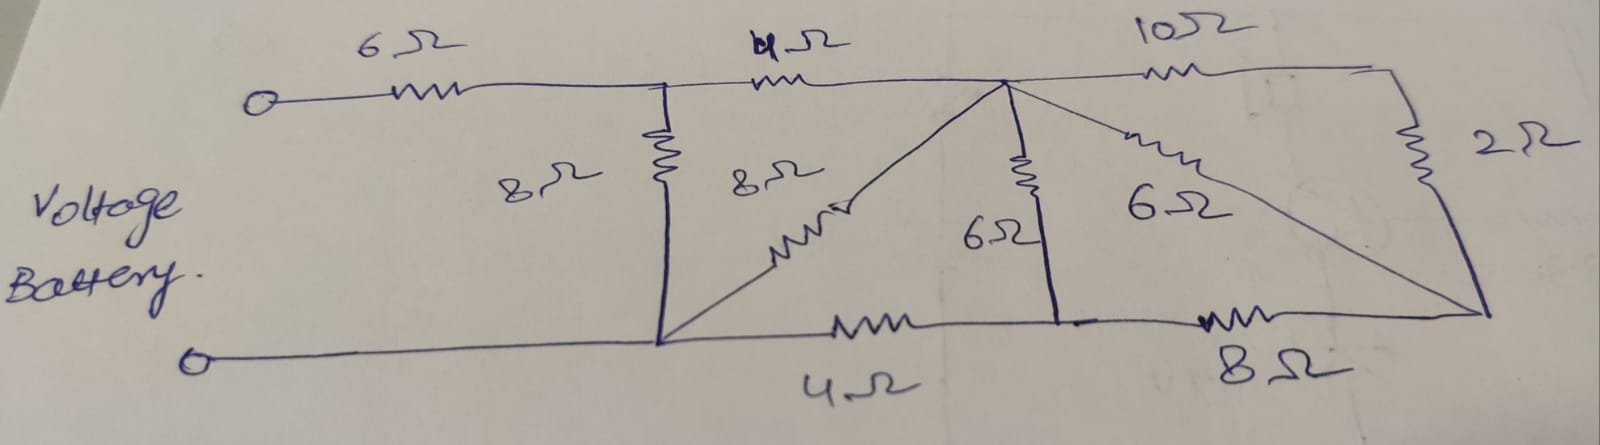junction: (990, 73, 1018, 97), (1473, 303, 1498, 327), (1046, 313, 1071, 335), (647, 78, 676, 95), (646, 333, 670, 351), (1381, 62, 1402, 83)
resistor: (762, 199, 853, 271), (1116, 125, 1204, 169), (1389, 123, 1440, 189), (824, 309, 917, 339), (638, 126, 682, 187), (382, 77, 473, 102), (1192, 305, 1273, 330), (1007, 146, 1045, 195), (1136, 63, 1213, 86), (745, 71, 813, 93)
terminal: (240, 86, 284, 118), (176, 345, 220, 377)
text: (3, 180, 191, 309), (1214, 341, 1357, 385), (1130, 7, 1260, 47), (496, 157, 606, 204), (1124, 179, 1236, 220), (804, 369, 924, 407), (1472, 118, 1583, 158), (746, 27, 856, 64), (355, 26, 470, 61), (724, 156, 828, 195), (960, 211, 1040, 252)
